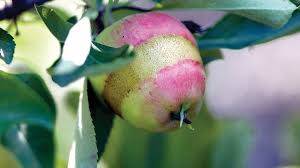damaged_apple: (92, 25, 208, 134)
